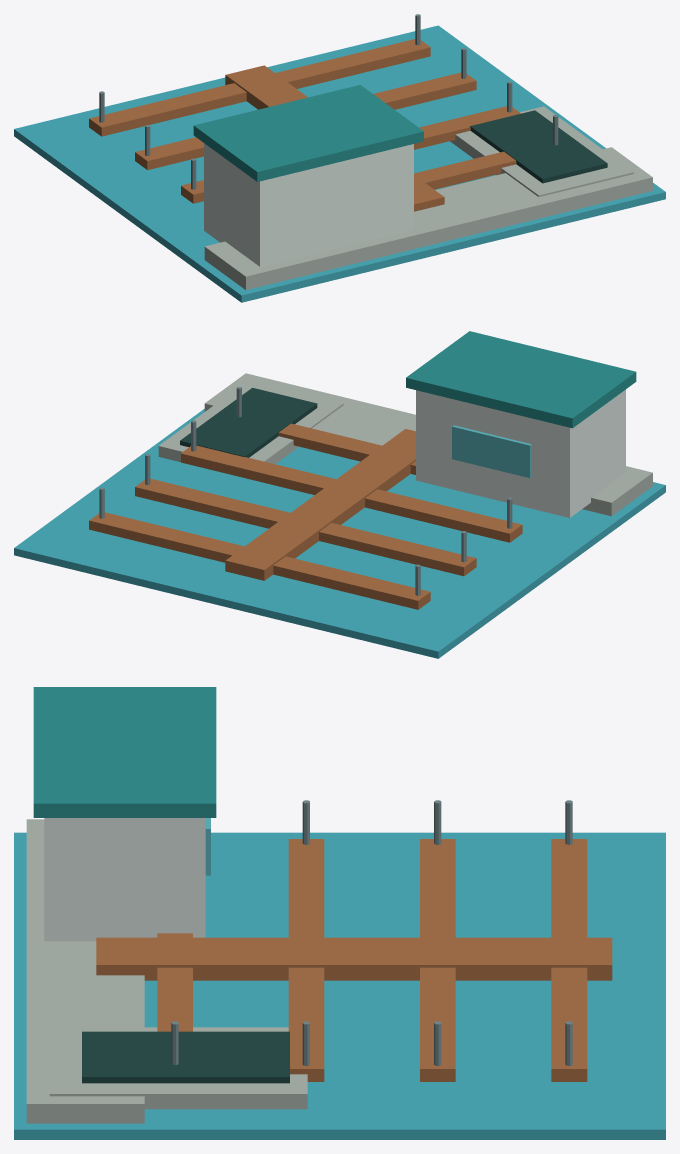
Rendered from marina_lv1.glb.
3 views of the same model, one above another, from view 1: azimuth 30°, elevation 25°; view 2: azimuth 150°, elevation 25°; view 3: azimuth 270°, elevation 25° (orthographic). The views are drawn at different scales.
Parts seen in each view (by area): view 1: rough, glossy, metallic; view 2: rough, glossy, metallic; view 3: rough, glossy, metallic.
Boxes of the visible parts, x1,y1,x2,y2 form: rough: (89,39,652,289); glossy: (14,25,665,302); metallic: (99,14,558,189); rough: (89,331,652,609); glossy: (14,409,665,658); metallic: (99,387,512,595); rough: (26,687,612,1123); glossy: (14,818,665,1139); metallic: (171,800,572,1065).
Bounding box in the file's own units: 9.8 × 2.65 × 9.1.
